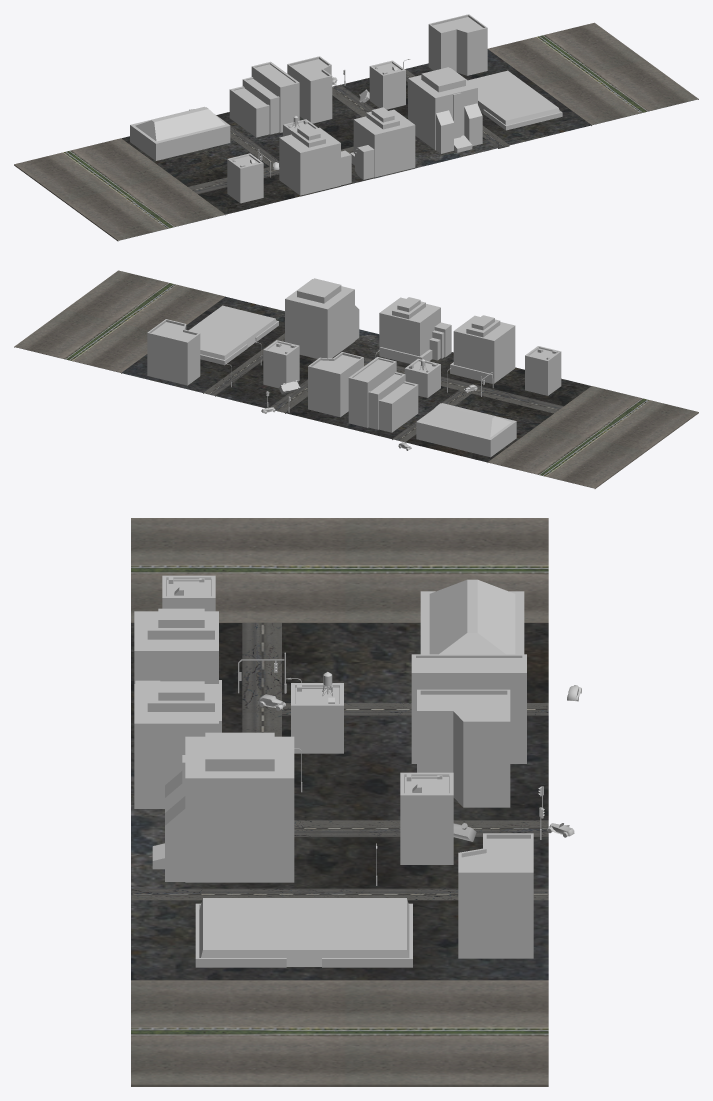
File: Block_05.fbx
3 renders of one model, top to bottom at view 1: azimuth 30°, elevation 25°; view 2: azimuth 150°, elevation 25°; view 3: azimuth 270°, elevation 25°, orthographic. The views are drawn at different scales.
Parts seen in each view (by area): view 1: pasted__polySurface1337; view 2: pasted__polySurface1337; view 3: pasted__polySurface1337.
Part boxes in pixels (bbox=[...]): pasted__polySurface1337: bbox=[14, 14, 698, 241]; pasted__polySurface1337: bbox=[14, 270, 698, 488]; pasted__polySurface1337: bbox=[131, 518, 581, 1086].
Size of the model in its own units: 459 by 154 by 46.67.
